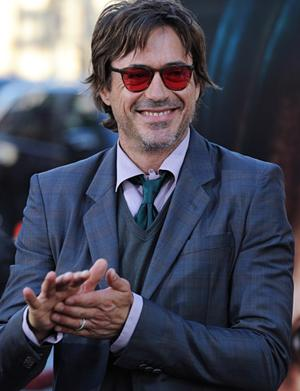person: (1, 1, 295, 389)
